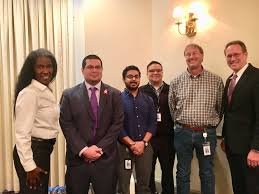F_M_suit jacket: (61, 81, 123, 159), (224, 67, 259, 162)
F_shirt: (9, 78, 59, 169)
F_tie: (85, 84, 101, 134), (227, 73, 237, 106)
